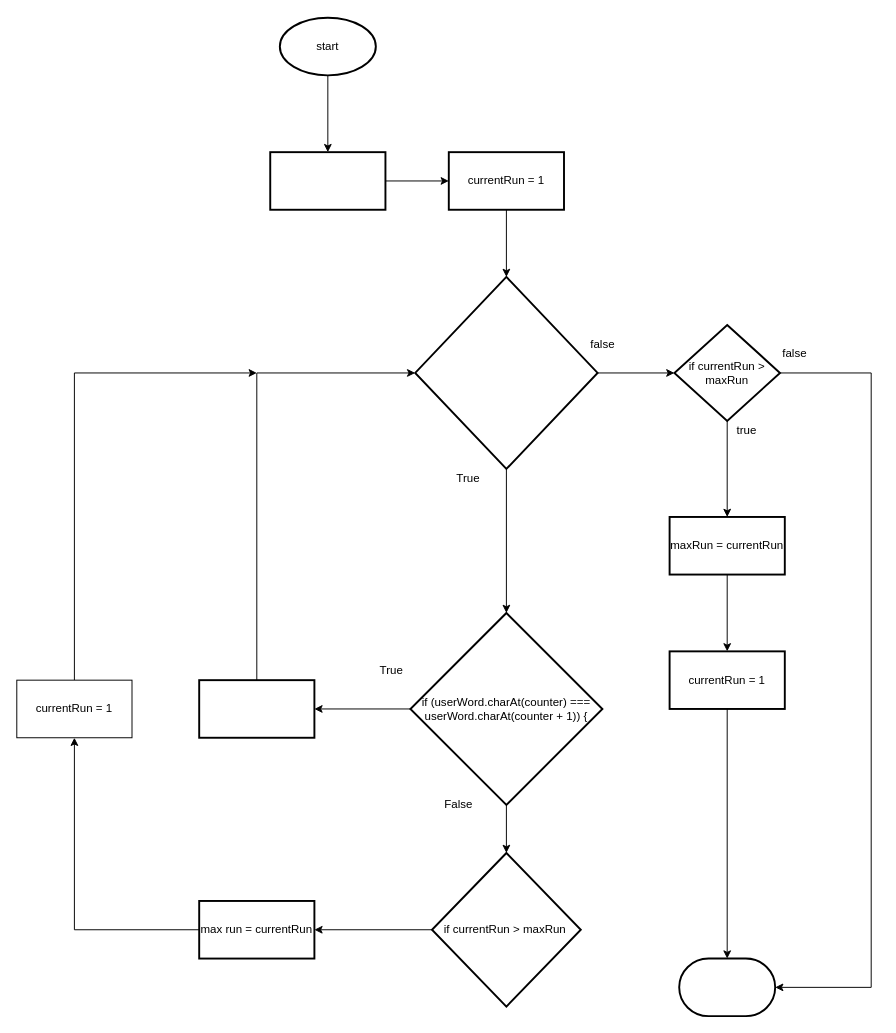
This 896x1033 diagram has some shape labels left out. Each missing label, with the centre of its shape:
currentRun += 1: the point at 256,708
End of Function: the point at 727,987
for (let counter = 0; counter < userWord.length; counter++): the point at 506,372
max run = 1: the point at 327,180
